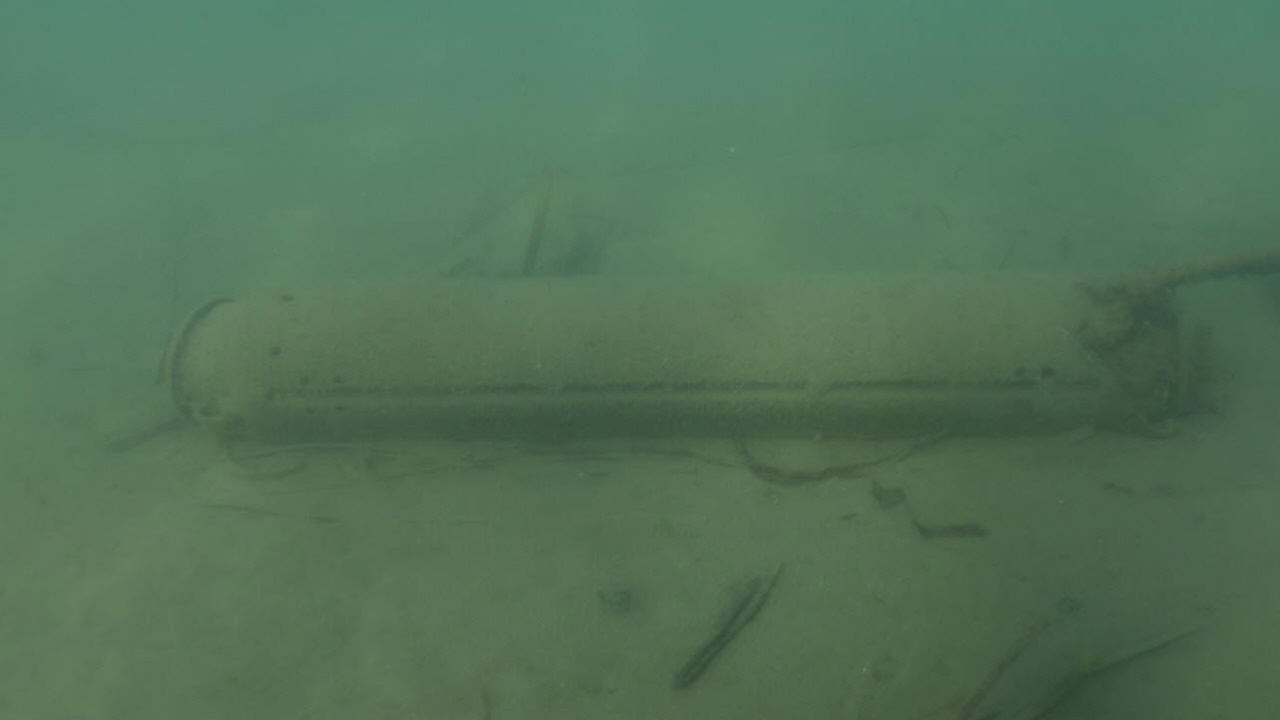bundle of ropes: (1125, 252, 1280, 310)
eel fish trap: (164, 256, 1172, 443)
